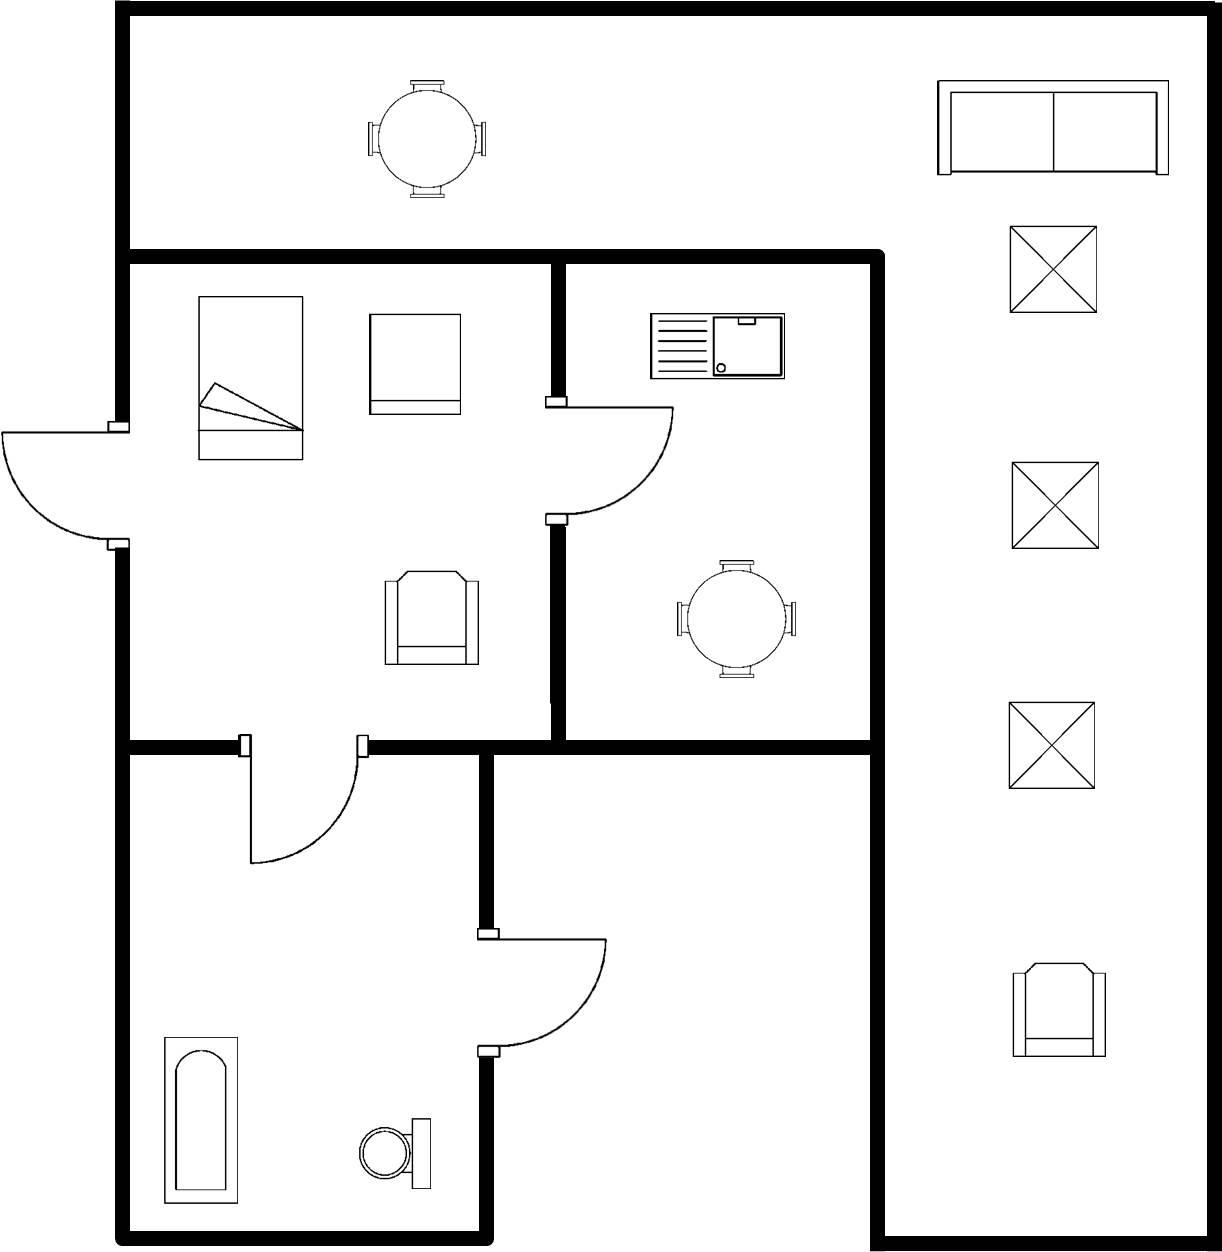bed: (186, 286, 311, 469)
round_table: (357, 72, 497, 207), (664, 549, 800, 685)
sink: (641, 304, 792, 385)
sofa: (927, 68, 1177, 188)
toilet: (350, 1108, 438, 1195)
tub: (152, 1028, 248, 1209)
